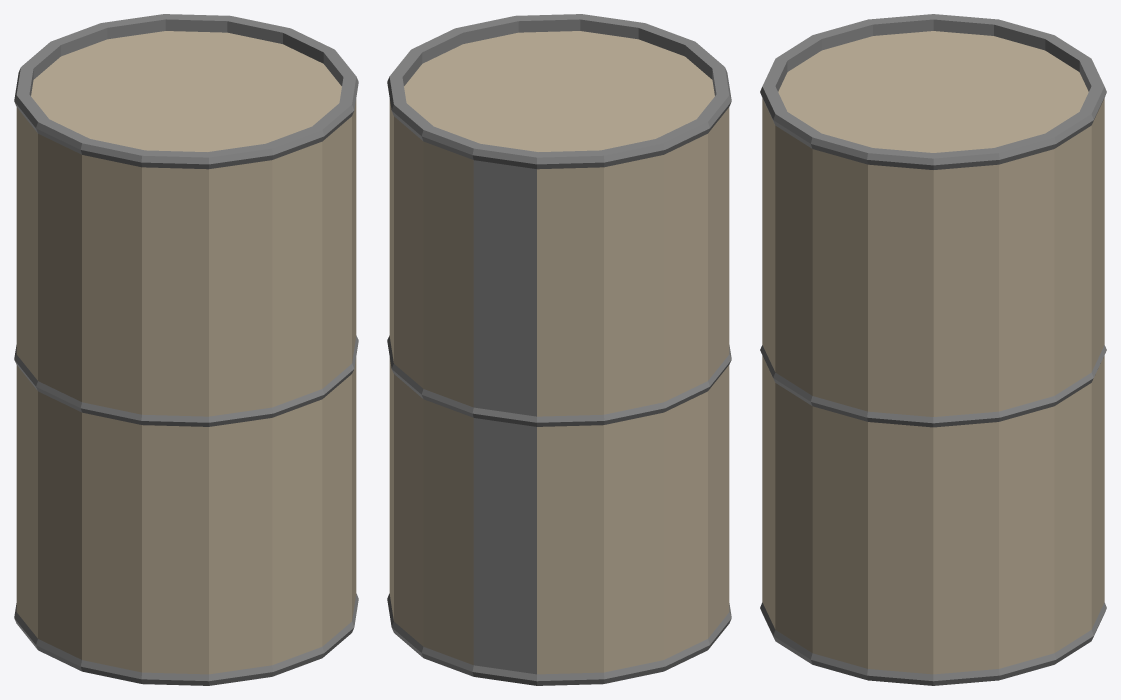
Rendered from Oil drum obstacle.fbx.
The picture shows the model from 3 angles, left to right: view 1: azimuth 30°, elevation 25°; view 2: azimuth 150°, elevation 25°; view 3: azimuth 270°, elevation 25°; orthographic projection.
Visible parts, largest first — view 1: Cylinder; view 2: Cylinder; view 3: Cylinder.
Boxes of the visible parts, x1,y1,x2,y2 form: Cylinder: (14, 14, 358, 685); Cylinder: (387, 14, 731, 685); Cylinder: (760, 14, 1106, 685).
Size of the model in its own units: 316 by 529 by 316.
